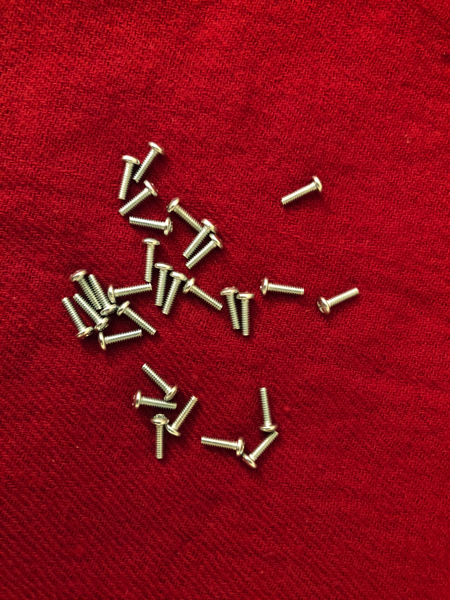shortscrew: (117, 299, 161, 340), (180, 218, 219, 260), (116, 180, 161, 216), (279, 174, 325, 209), (166, 393, 201, 439), (69, 268, 103, 315), (140, 363, 179, 402), (243, 432, 282, 471), (63, 298, 96, 344), (166, 196, 205, 234), (71, 293, 111, 330), (184, 234, 225, 270), (132, 140, 165, 184), (318, 286, 362, 319), (183, 279, 224, 314), (97, 326, 145, 355), (254, 386, 281, 435), (113, 154, 141, 200), (161, 270, 189, 316), (90, 273, 119, 317), (128, 213, 175, 240), (199, 434, 247, 459), (109, 282, 155, 307), (133, 391, 180, 415), (233, 292, 257, 337), (139, 236, 162, 282), (151, 412, 170, 467), (152, 262, 175, 307), (261, 277, 306, 300), (221, 286, 241, 332)
